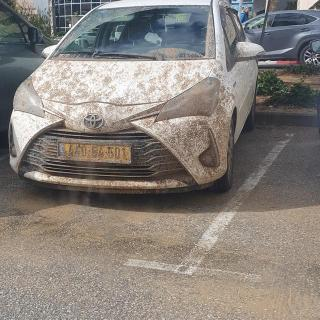LicensePlate: (64, 144, 129, 161)
